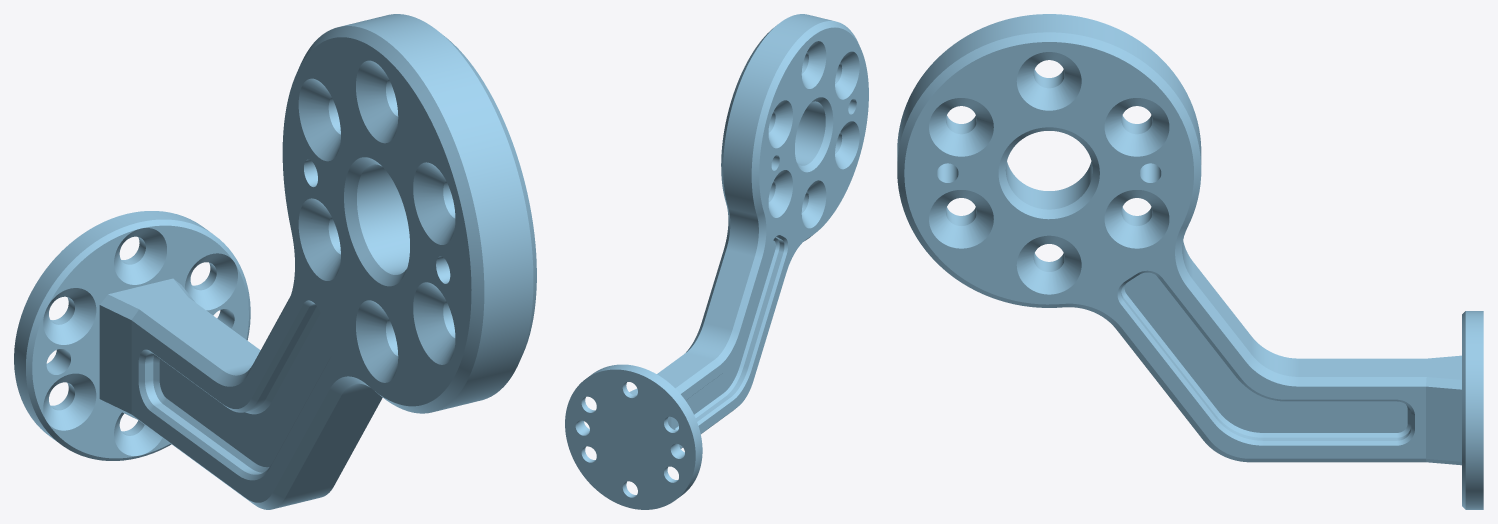
File: r_shoulder_roll_link.dae
3 views of the same model, side by side, from view 1: azimuth 30°, elevation 25°; view 2: azimuth 150°, elevation 25°; view 3: azimuth 270°, elevation 25° (orthographic). The views are drawn at different scales.
Visible parts, largest first — view 1: shoulder_roll_link; view 2: shoulder_roll_link; view 3: shoulder_roll_link.
Part boxes in pixels (<box>): shoulder_roll_link: <box>14,14,536,509</box>; shoulder_roll_link: <box>565,14,868,509</box>; shoulder_roll_link: <box>897,14,1483,509</box>.
Bounding box in the file's own units: 0.0275 × 0.0727 × 0.081.
